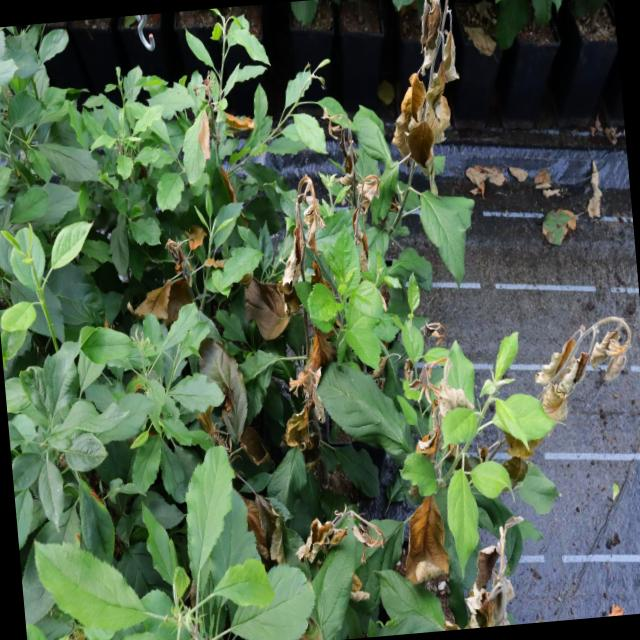-FireBlight-: (241, 177, 365, 510), (184, 339, 292, 562), (405, 498, 531, 627), (537, 304, 635, 435), (395, 0, 456, 174), (131, 220, 230, 323), (411, 360, 490, 480), (298, 499, 394, 573)
